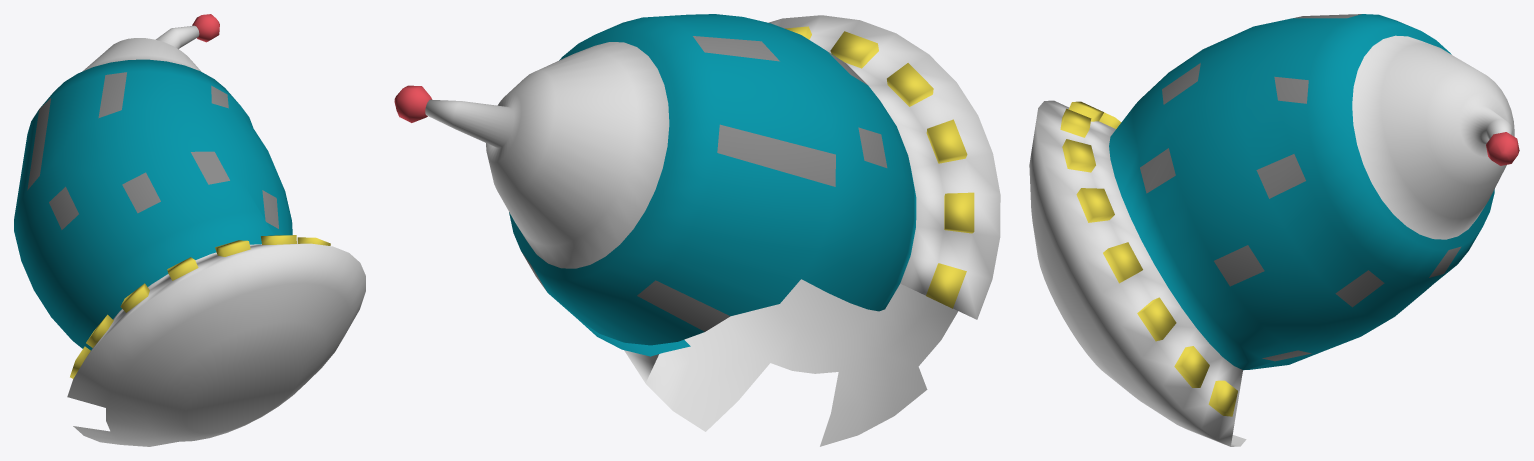
Rendered from SpaceShipNew03.fbx.
3 views of the same model, side by side, from view 1: azimuth 30°, elevation 25°; view 2: azimuth 150°, elevation 25°; view 3: azimuth 270°, elevation 25° (orthographic). The views are drawn at different scales.
Parts seen in each view (by area): view 1: Sphere.004; view 2: Sphere.004; view 3: Sphere.004.
Boxes of the visible parts, box(x1,y1,x2,y2) form: Sphere.004: box(14, 14, 365, 446); Sphere.004: box(394, 14, 1000, 446); Sphere.004: box(1029, 14, 1519, 446).
Size of the model in its own units: 249 by 298 by 270.
